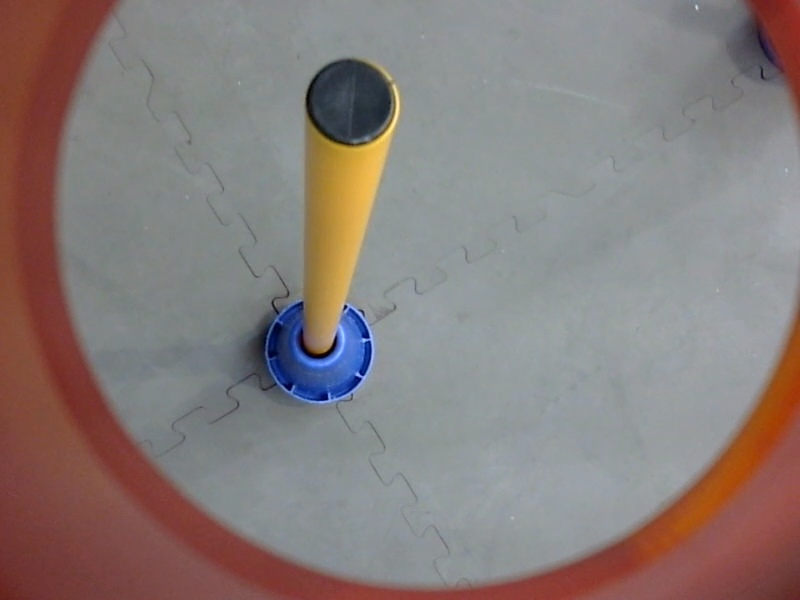tip: (298, 51, 404, 154)
